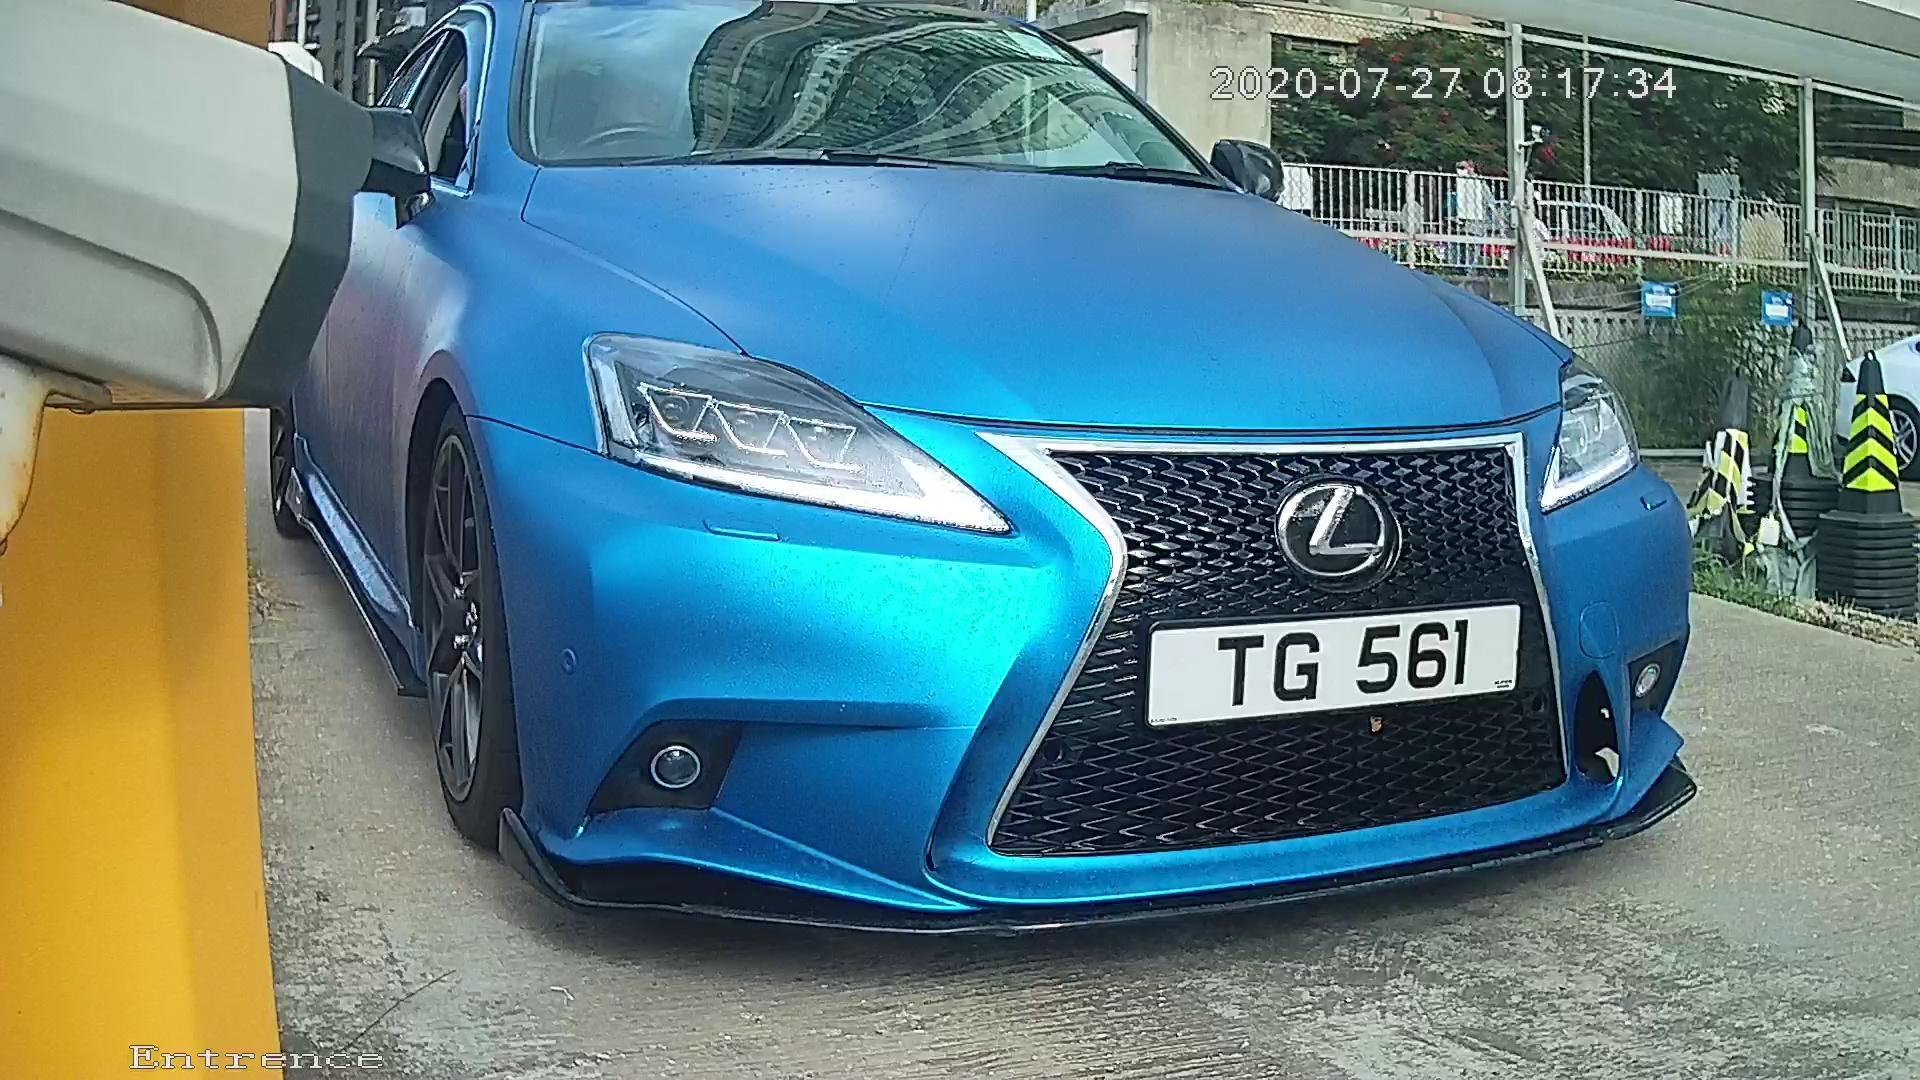Car: (292, 39, 1783, 936)
License Plate: (1123, 584, 1535, 724)
